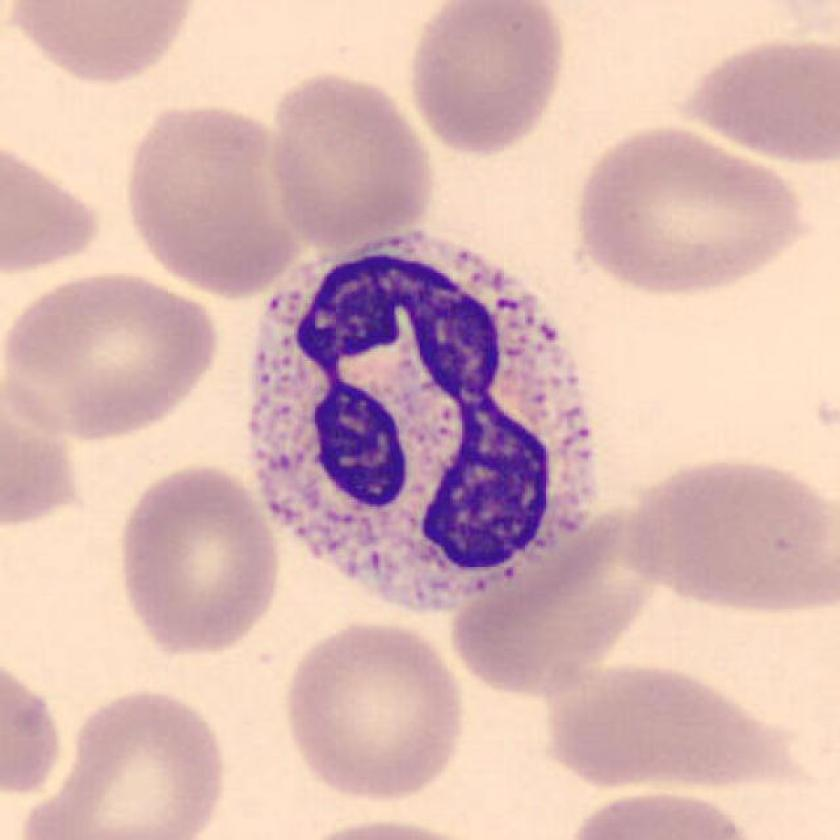neutrophil: (252, 232, 604, 609)
